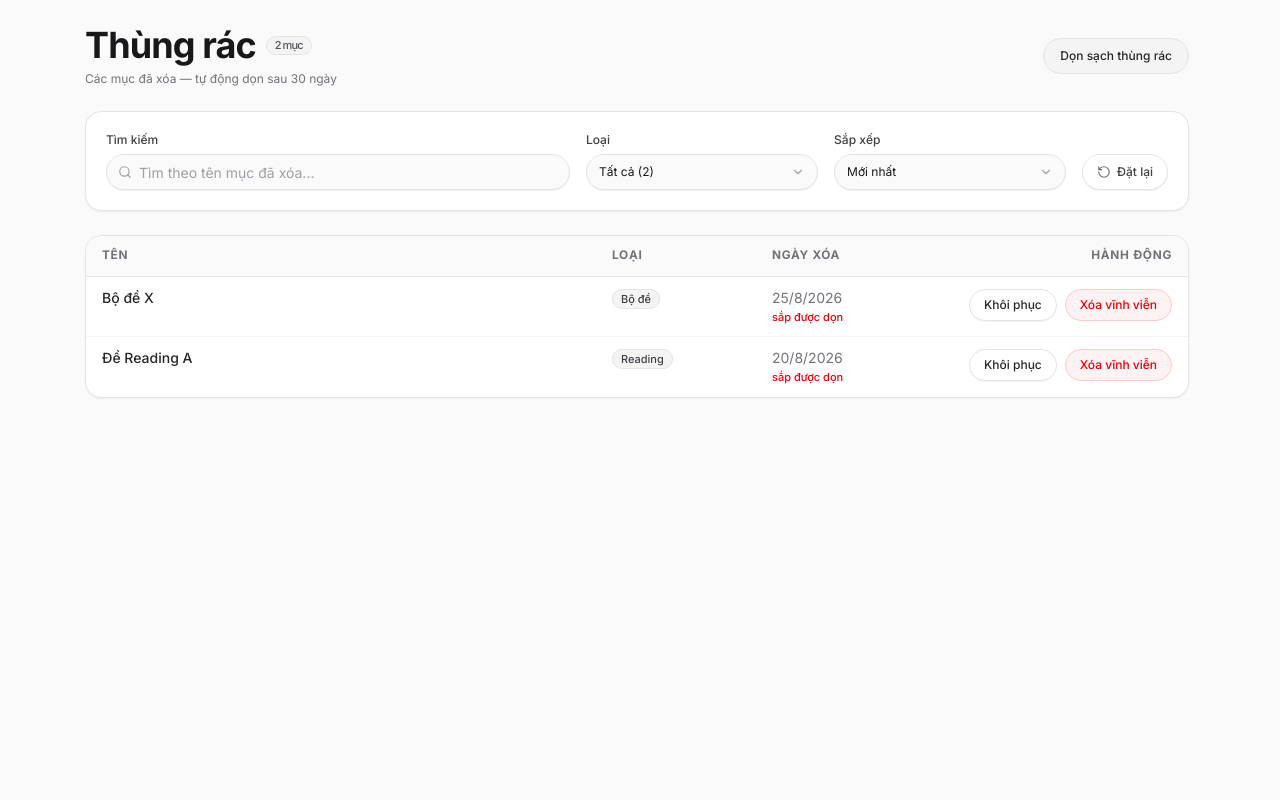
Test: Trash page — P3 modal + a11y + error handling › P3-4: opening the delete confirm mounts a role="dialog"; Escape closes it
Expected: the text "Đề Reading A" is shown, [86,337,596,397]
Click the button "Xóa vĩnh viễn" in the row of "Bộ đề X": (1118, 305) [1065,289,1172,321]
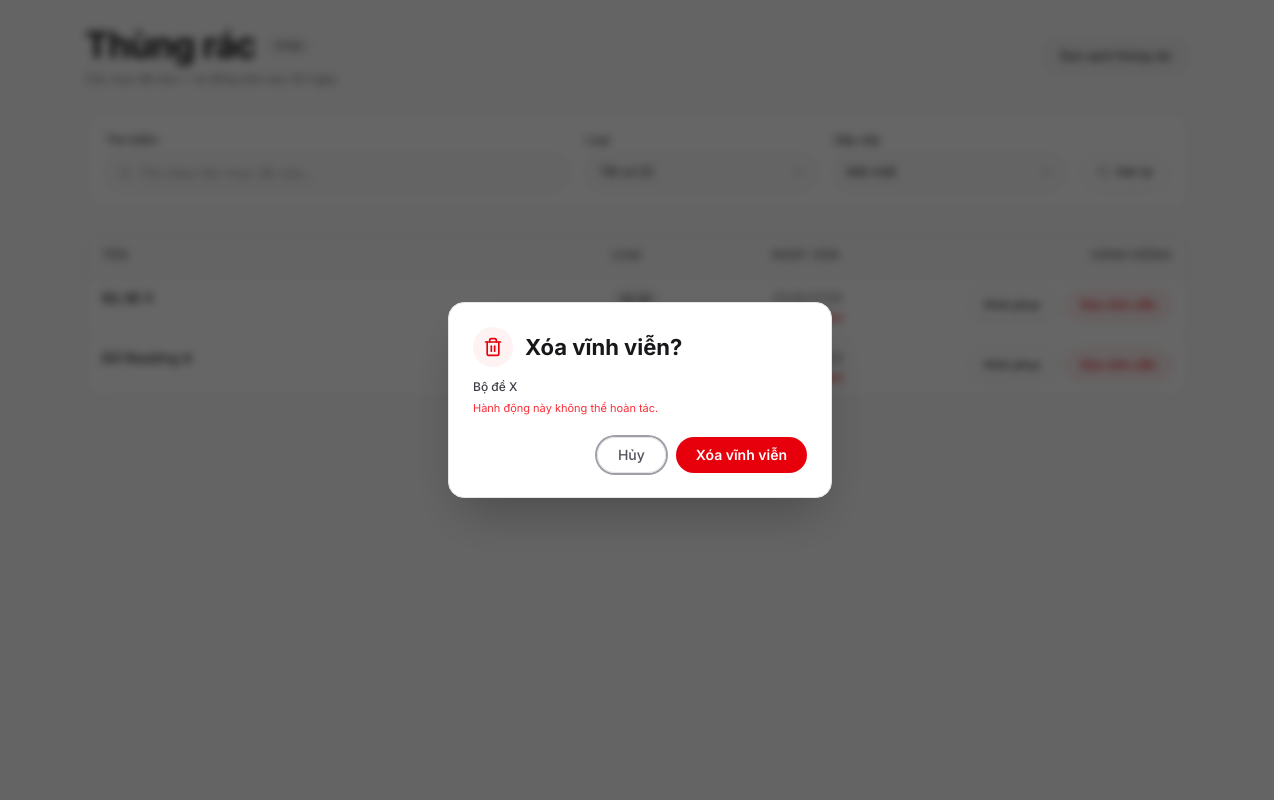
Now the dialog is shown
Press Escape in the dialog, box [448,302,832,498]
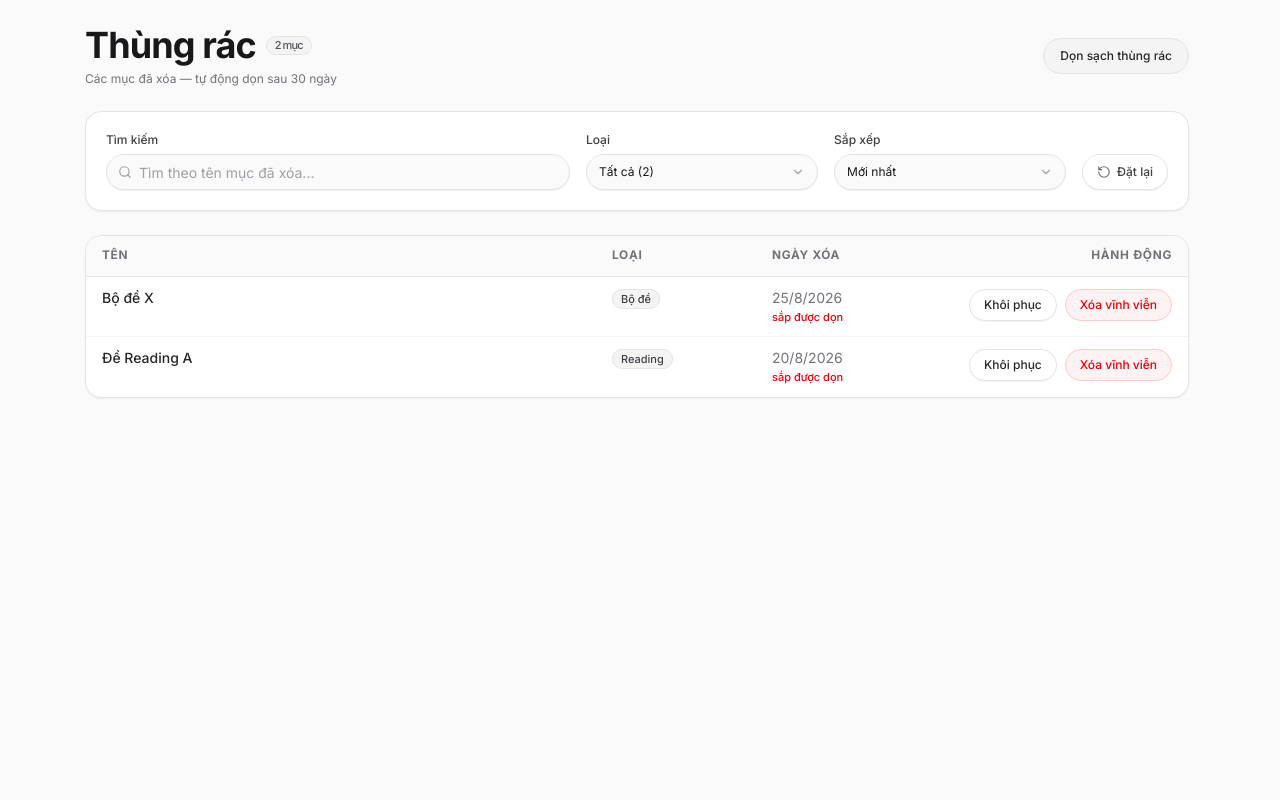
Now the dialog is gone
